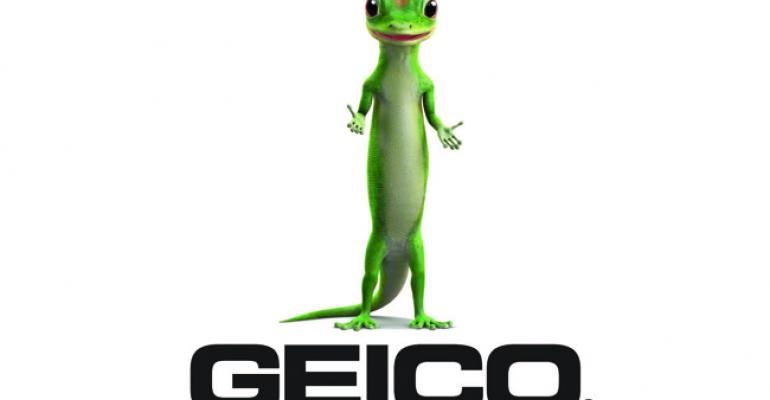Geico: (186, 340, 585, 400)
